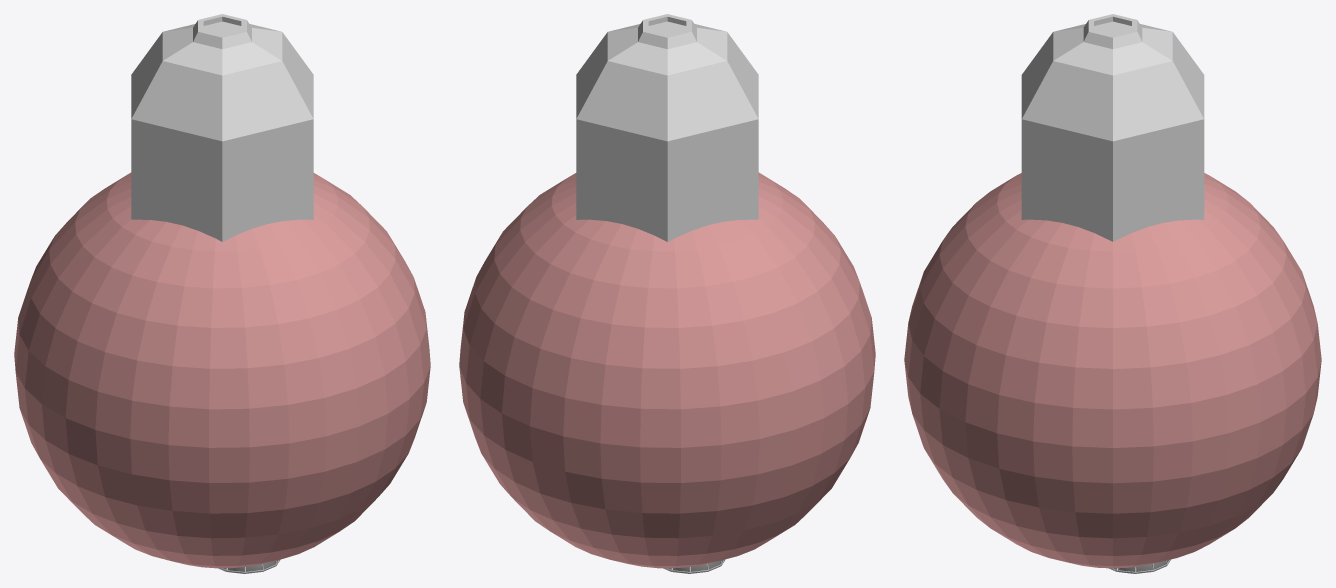
The model's file is spaceship.glb.
3 views of the same model, side by side, from view 1: azimuth 30°, elevation 25°; view 2: azimuth 150°, elevation 25°; view 3: azimuth 270°, elevation 25° (orthographic).
Visible parts, largest first — view 1: Sphere, outer2; view 2: Sphere, outer2; view 3: Sphere, outer2.
Boxes of the visible parts, box(x1,y1,x2,y2) form: Sphere: box(14, 172, 430, 568); outer2: box(131, 14, 313, 241); Sphere: box(459, 172, 875, 568); outer2: box(576, 14, 758, 241); Sphere: box(904, 173, 1321, 568); outer2: box(1021, 14, 1204, 241).
Size of the model in its own units: 18.88 by 26.11 by 18.88.
